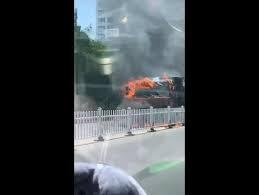fire: (124, 76, 166, 97)
